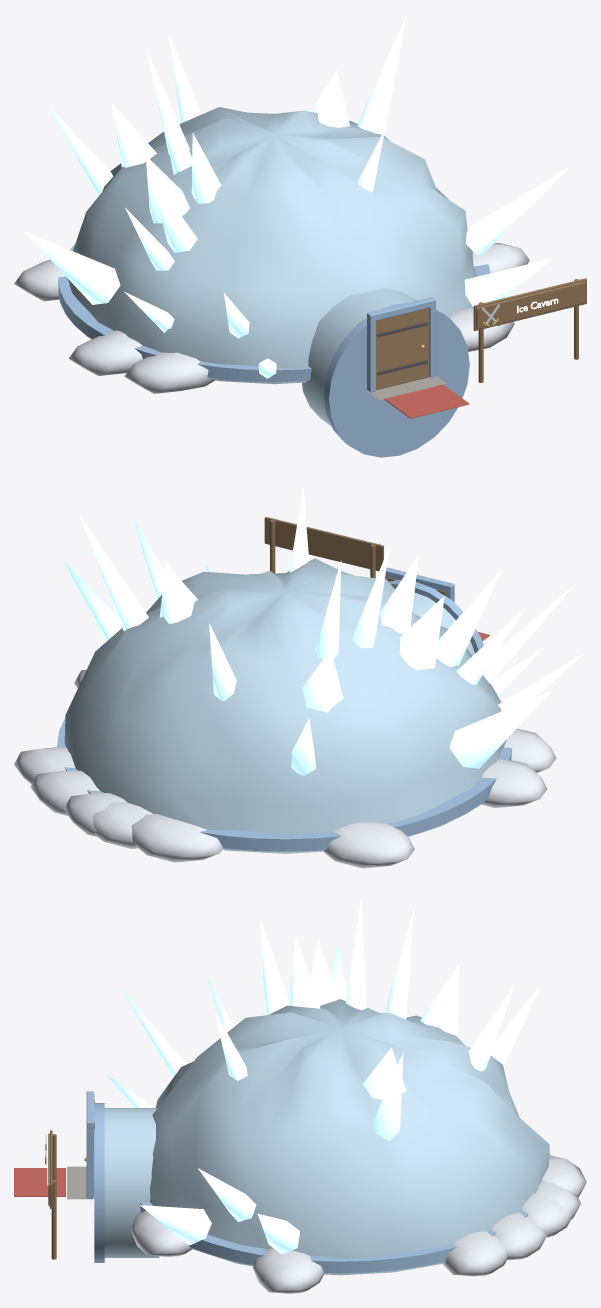
File: ice_cavern.fbx
3 views of the same model, one above another, from view 1: azimuth 30°, elevation 25°; view 2: azimuth 150°, elevation 25°; view 3: azimuth 270°, elevation 25° (orthographic). The views are drawn at different scales.
Parts seen in each view (by area): view 1: ice_cavern; view 2: ice_cavern; view 3: ice_cavern.
Part boxes in pixels (x1=…): ice_cavern: x1=14, y1=15, x2=586, y2=457; ice_cavern: x1=14, y1=488, x2=585, y2=868; ice_cavern: x1=14, y1=898, x2=586, y2=1293.
Bounding box in the file's own units: 22.22 × 13.01 × 22.1.
